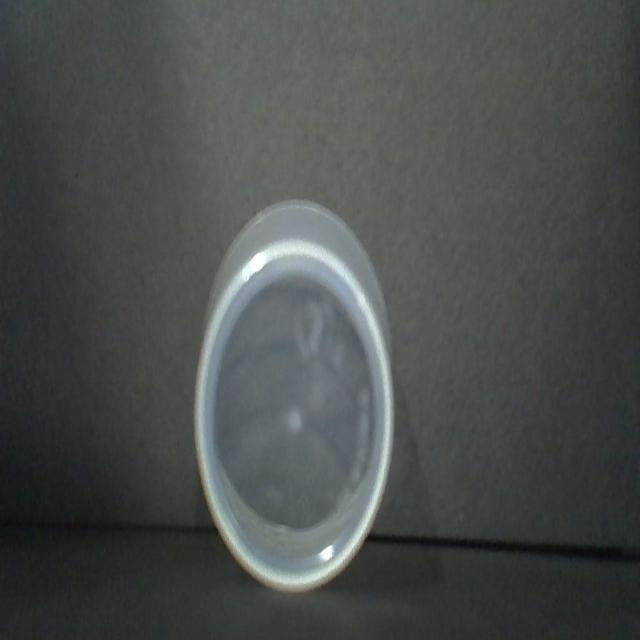cup: (192, 192, 401, 608)
